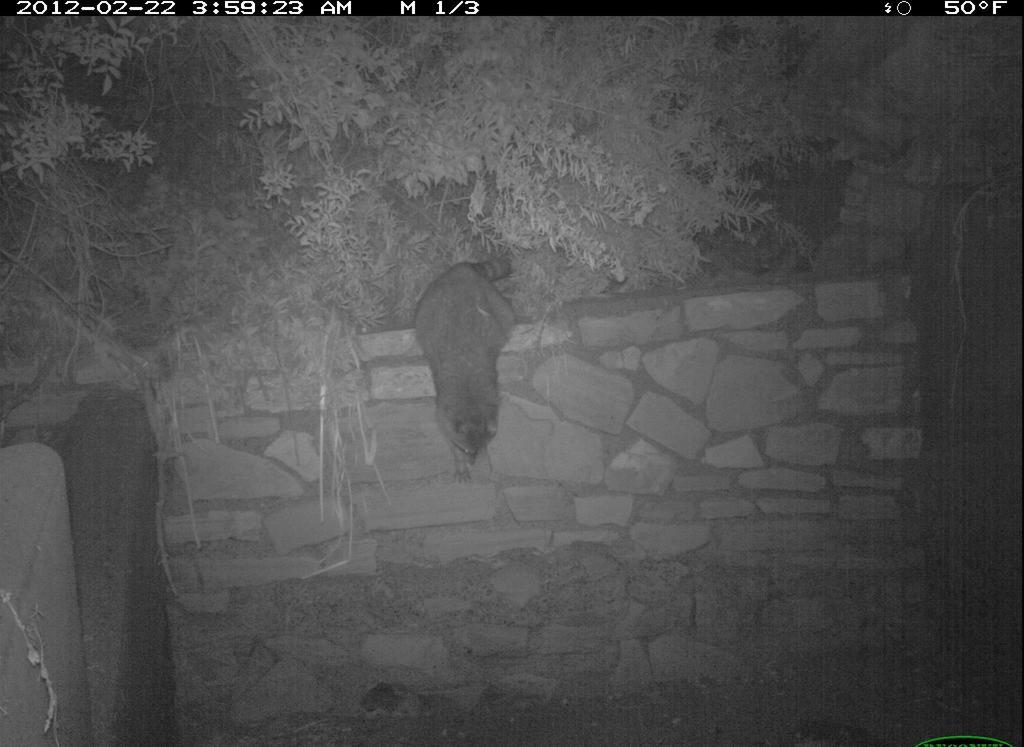raccoon: (388, 253, 537, 477)
